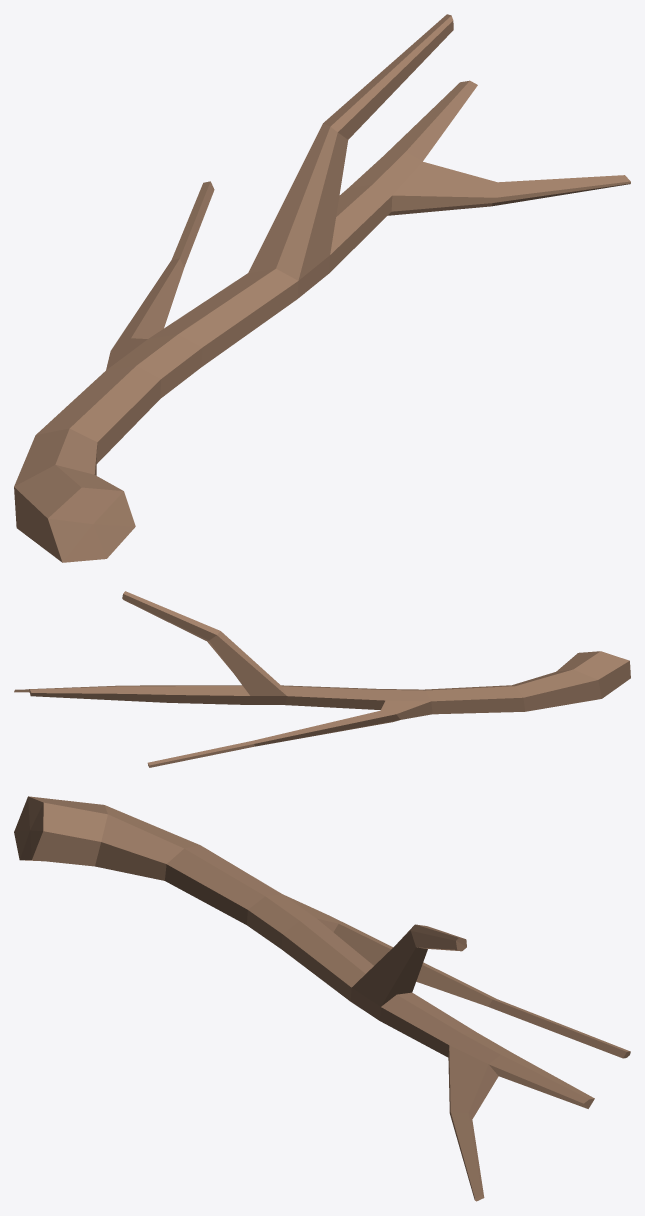
Rendered from Forest_006.fbx.
3 renders of one model, top to bottom at view 1: azimuth 30°, elevation 25°; view 2: azimuth 150°, elevation 25°; view 3: azimuth 270°, elevation 25°, orthographic. The views are drawn at different scales.
Parts seen in each view (by area): view 1: Forest_006; view 2: Forest_006; view 3: Forest_006.
Boxes of the visible parts, x1,y1,x2,y2 form: Forest_006: (14, 14, 630, 562); Forest_006: (14, 591, 630, 767); Forest_006: (14, 796, 630, 1201).
Size of the model in its own units: 400 by 99.99 by 300.
